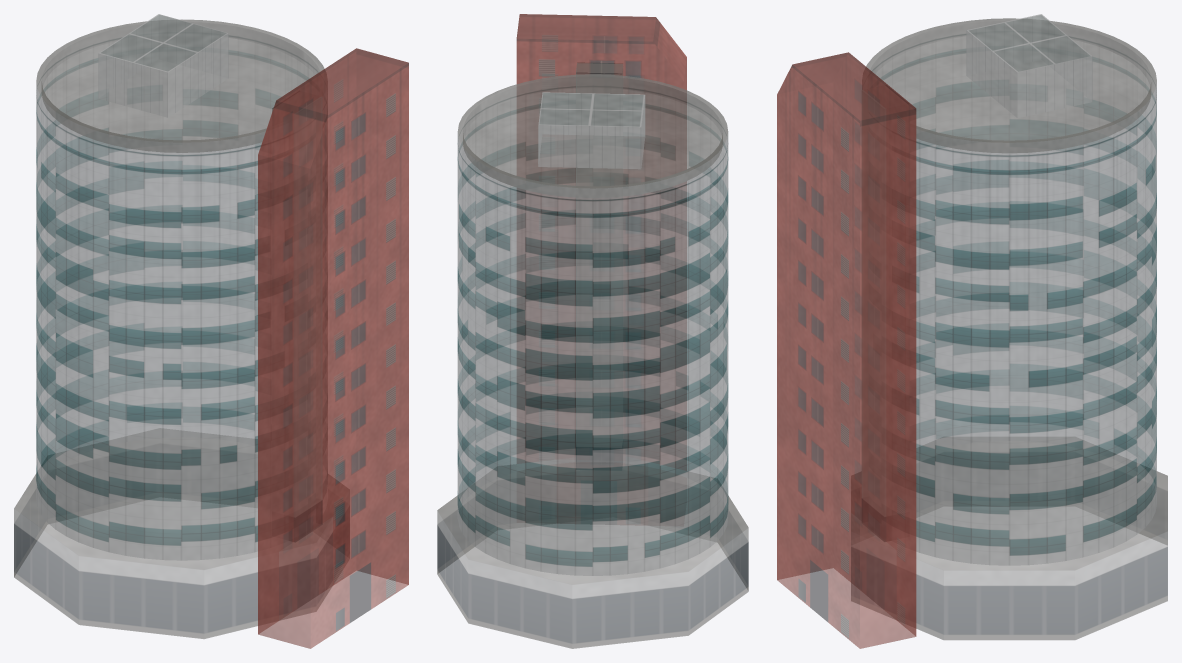
File: ARRAES.preview.glb
3 views of the same model, side by side, from view 1: azimuth 30°, elevation 25°; view 2: azimuth 150°, elevation 25°; view 3: azimuth 270°, elevation 25° (orthographic). The views are drawn at different scales.
Parts seen in each view (by area): view 1: obj_68e60, obj_69100, obj_693f0, obj_6c0f0, obj_6c890, obj_6cbd0, obj_6c450; view 2: obj_68e60, obj_6c0f0, obj_69100, obj_6c890, obj_6cbd0, obj_6c450, obj_693f0; view 3: obj_68e60, obj_693f0, obj_69100, obj_6c0f0, obj_6c890, obj_6cbd0, obj_6c450.
Boxes of the visible parts, x1,y1,x2,y2 form: obj_68e60: (36, 20, 327, 560); obj_69100: (258, 49, 408, 648); obj_693f0: (258, 48, 408, 648); obj_6c0f0: (14, 19, 331, 569); obj_6c890: (14, 475, 349, 638); obj_6cbd0: (272, 91, 322, 541); obj_6c450: (98, 14, 228, 117); obj_68e60: (457, 75, 728, 575); obj_6c0f0: (437, 74, 748, 584); obj_69100: (516, 14, 686, 469); obj_6c890: (437, 496, 748, 648); obj_6cbd0: (576, 62, 623, 470); obj_6c450: (538, 92, 645, 169); obj_693f0: (516, 14, 686, 90); obj_68e60: (862, 18, 1156, 565); obj_693f0: (777, 52, 916, 648); obj_69100: (777, 53, 915, 648); obj_6c0f0: (851, 18, 1167, 570); obj_6c890: (851, 471, 1167, 640); obj_6cbd0: (862, 85, 908, 541); obj_6c450: (966, 14, 1092, 117).
Bounding box in the file's own units: 144 × 249 × 167.
Materials: 7 (7 with a texture image).
